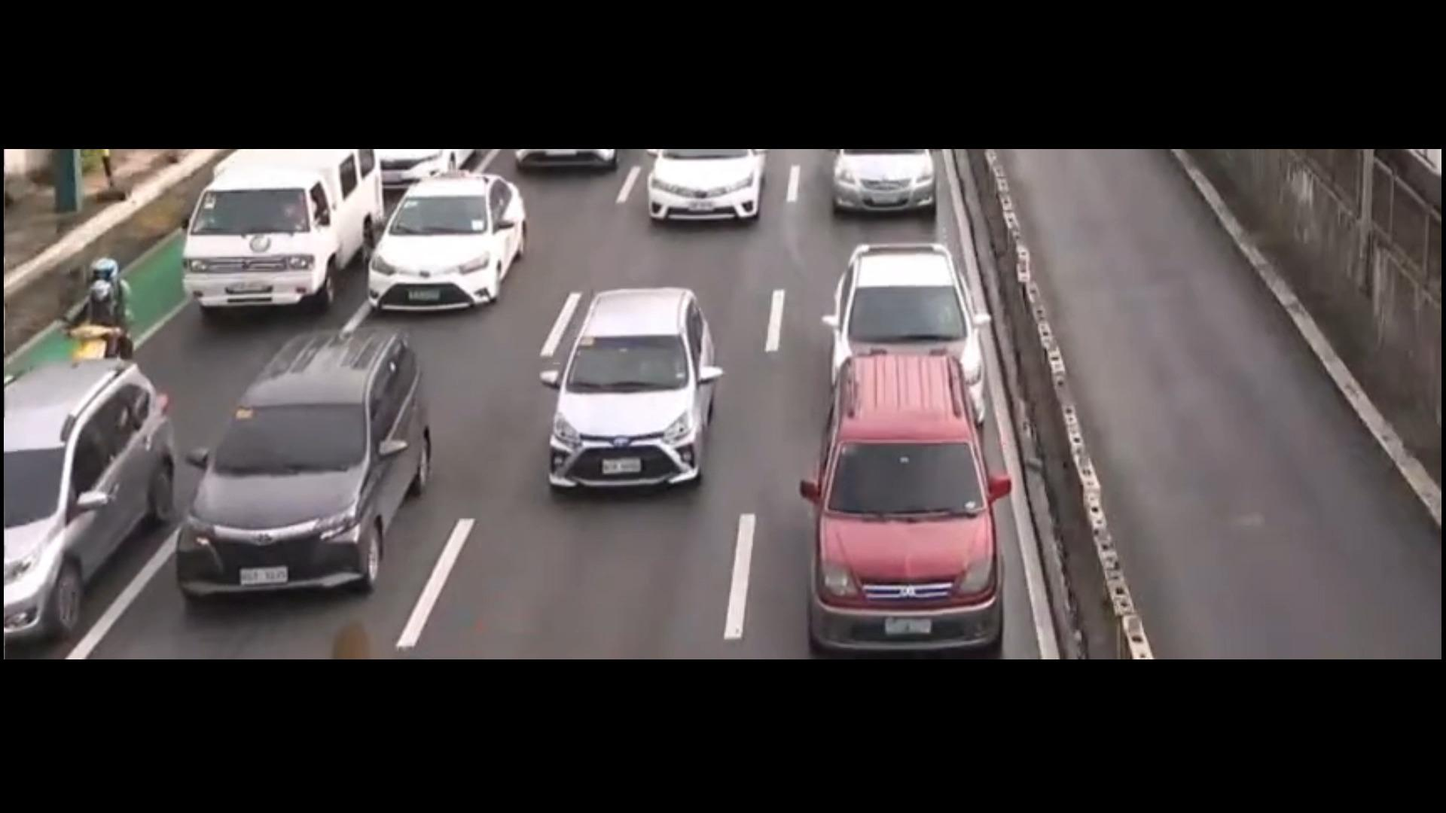Motorcycle: (62, 254, 137, 355)
Multicab: (178, 147, 377, 315)
SUV: (176, 326, 422, 610), (794, 354, 1011, 653), (0, 358, 166, 628)
Sedan: (536, 287, 719, 505), (822, 243, 990, 426), (367, 176, 524, 308), (638, 151, 766, 223)
